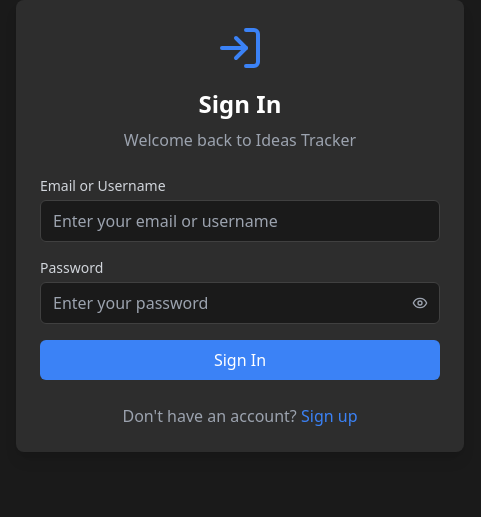
Test: LoginForm › shows validation errors for empty fields
Click the button "Sign In".
click(240, 360)  # box [40,340,440,380]
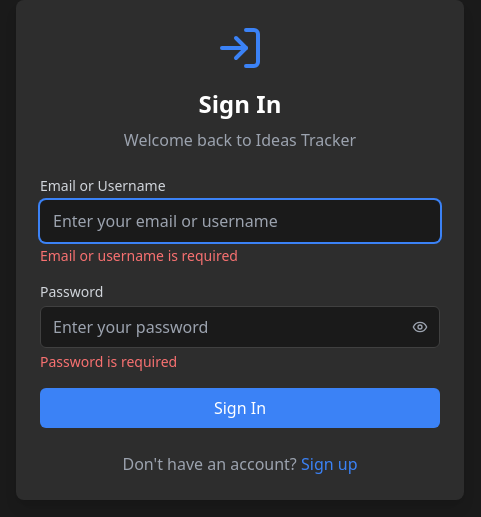
expect the text "Email or username is required" is shown: met, box [40,246,238,265]
expect the text "Password is required" is shown: met, box [40,352,177,371]
